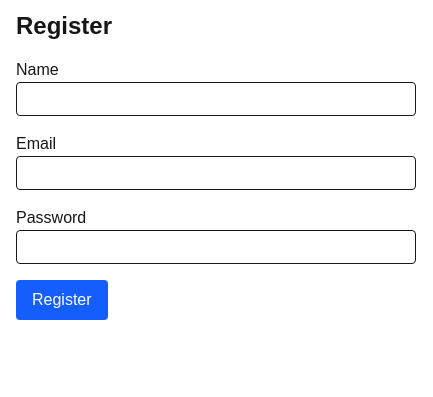
Test: <RegisterPage /> › shows validation errors on submit with empty fields
The width and height of the screenshot is (433, 397).
Click the button "Register" at {"x": 62, "y": 300}, box x1=16 y1=280 x2=108 y2=320
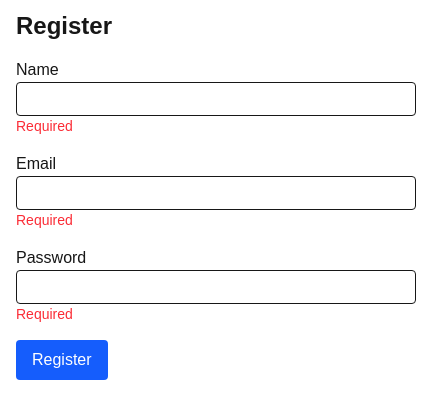
Check: the text "Required" is shown 3 times, box x1=16 y1=118 x2=73 y2=134; x1=16 y1=212 x2=73 y2=228; x1=16 y1=306 x2=73 y2=322
